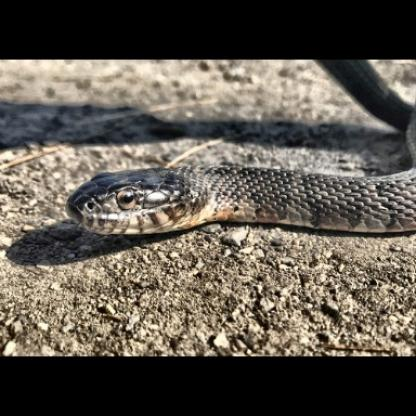Snake: (6, 132, 409, 258)
